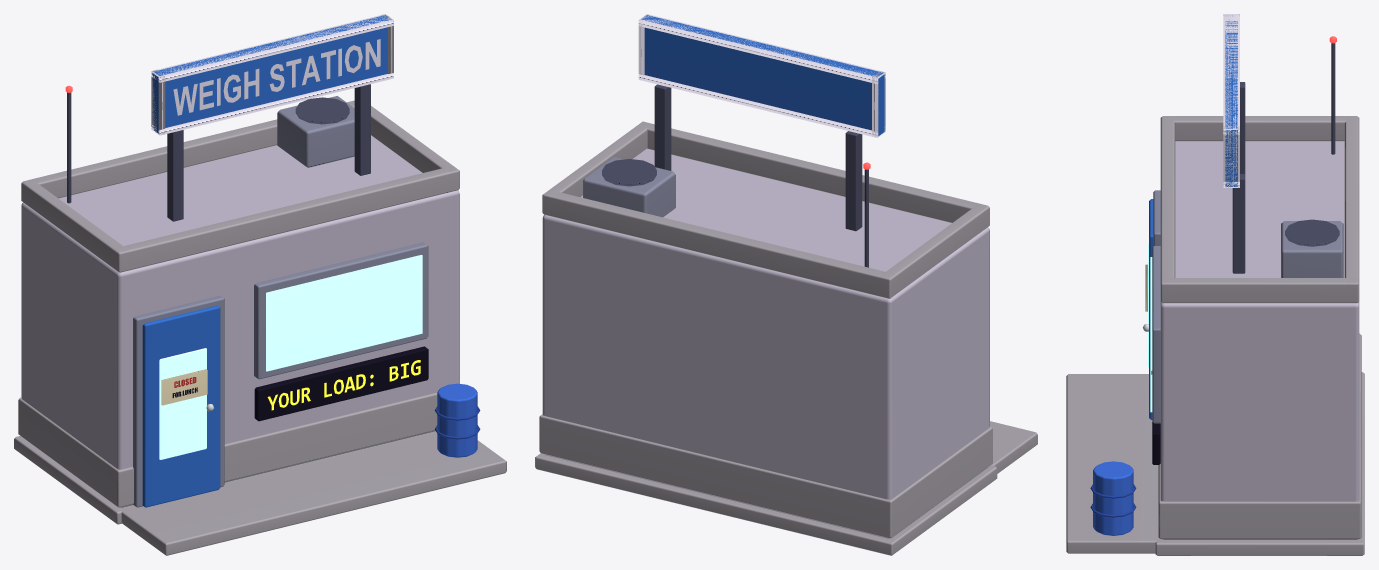
Rendered from weigh_station.glb.
3 views of the same model, side by side, from view 1: azimuth 30°, elevation 25°; view 2: azimuth 150°, elevation 25°; view 3: azimuth 270°, elevation 25° (orthographic). The views are drawn at different scales.
Parts seen in each view (by area): view 1: Booth, Drum; view 2: Booth; view 3: Booth, Drum.
Boxes of the visible parts, left/top/right/bottom form: Booth: left=14, top=14, right=506, bottom=555; Drum: left=434, top=383, right=480, bottom=457; Booth: left=535, top=14, right=1037, bottom=555; Booth: left=1066, top=14, right=1364, bottom=555; Drum: left=1090, top=461, right=1136, bottom=535.
Size of the model in its own units: 3.9 by 4.3 by 2.85.
